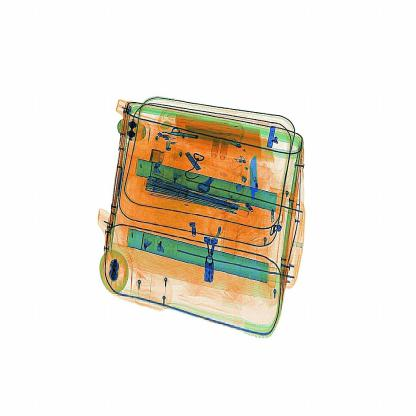wrench: (245, 140, 269, 233)
